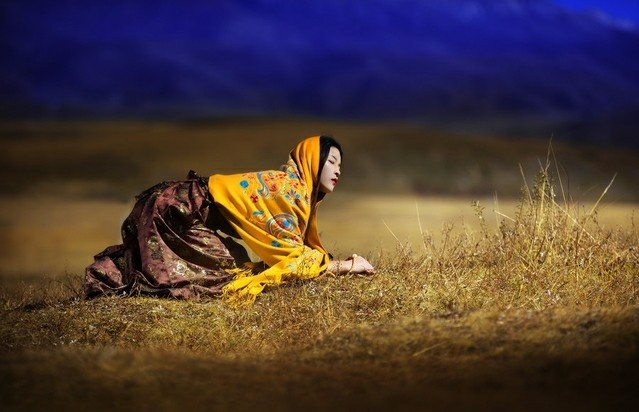falling: (59, 130, 382, 312)
